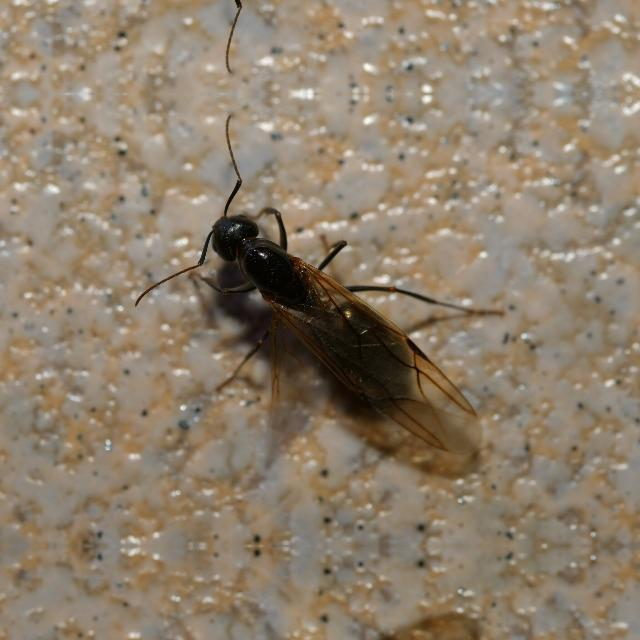Camponotus: (145, 162, 499, 460)
